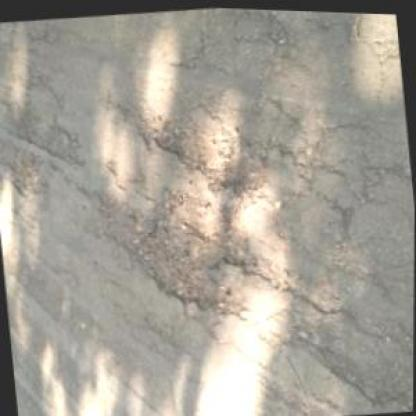pothole: (129, 183, 262, 329), (148, 107, 268, 202), (1, 146, 50, 198)
